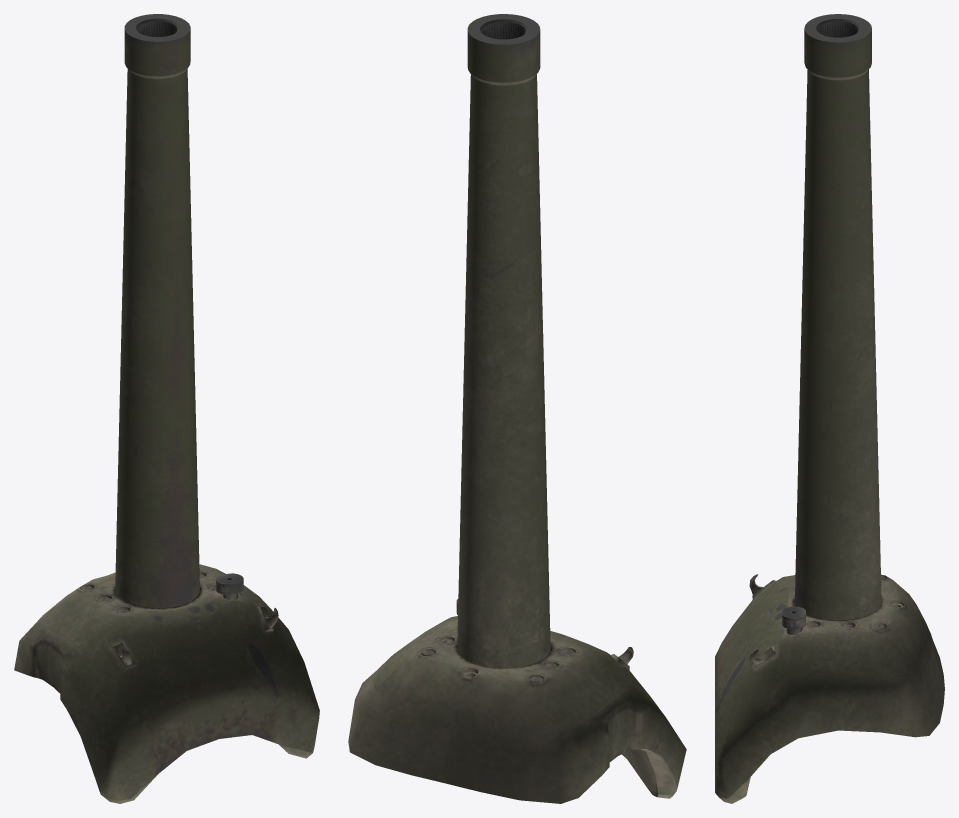
The model's file is Gun_01.glb.
3 renders of one model, left to right at view 1: azimuth 30°, elevation 25°; view 2: azimuth 150°, elevation 25°; view 3: azimuth 270°, elevation 25°, orthographic. The views are drawn at different scales.
Visible parts, largest first — view 1: set_0_group_0; view 2: set_0_group_0; view 3: set_0_group_0.
Part boxes in pixels (<box>): set_0_group_0: <box>14,14,319,803</box>; set_0_group_0: <box>348,14,686,803</box>; set_0_group_0: <box>715,14,944,803</box>.
Size of the model in its own units: 0.9574 by 2.97 by 0.8499.
1 material, 1 textured.
